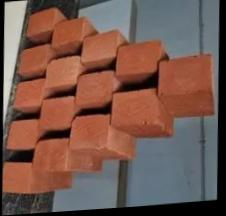brick: (154, 53, 212, 94), (109, 89, 155, 124), (115, 40, 159, 73), (73, 70, 113, 106), (66, 113, 106, 148), (30, 137, 69, 172), (0, 159, 32, 196), (80, 31, 117, 61), (45, 56, 79, 87), (38, 96, 70, 128), (5, 119, 35, 150), (50, 17, 82, 44), (12, 79, 44, 105), (24, 9, 53, 36), (17, 45, 46, 71)
